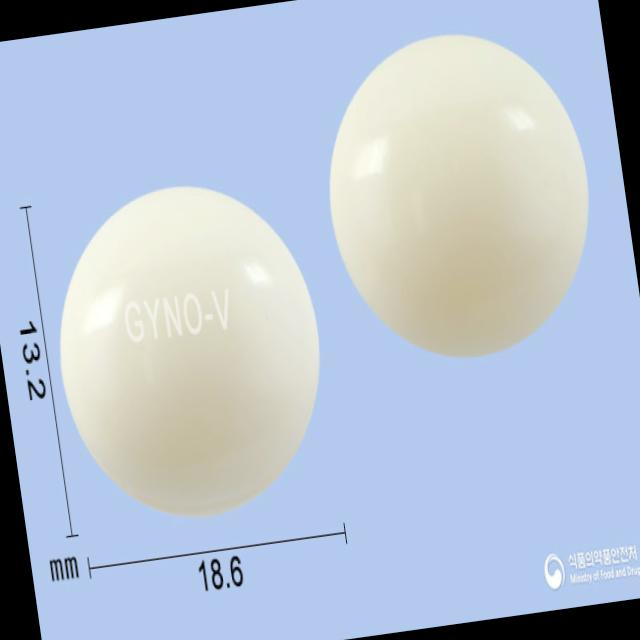Gyno-V Vaginal Soft Cap: (37, 164, 344, 532)
